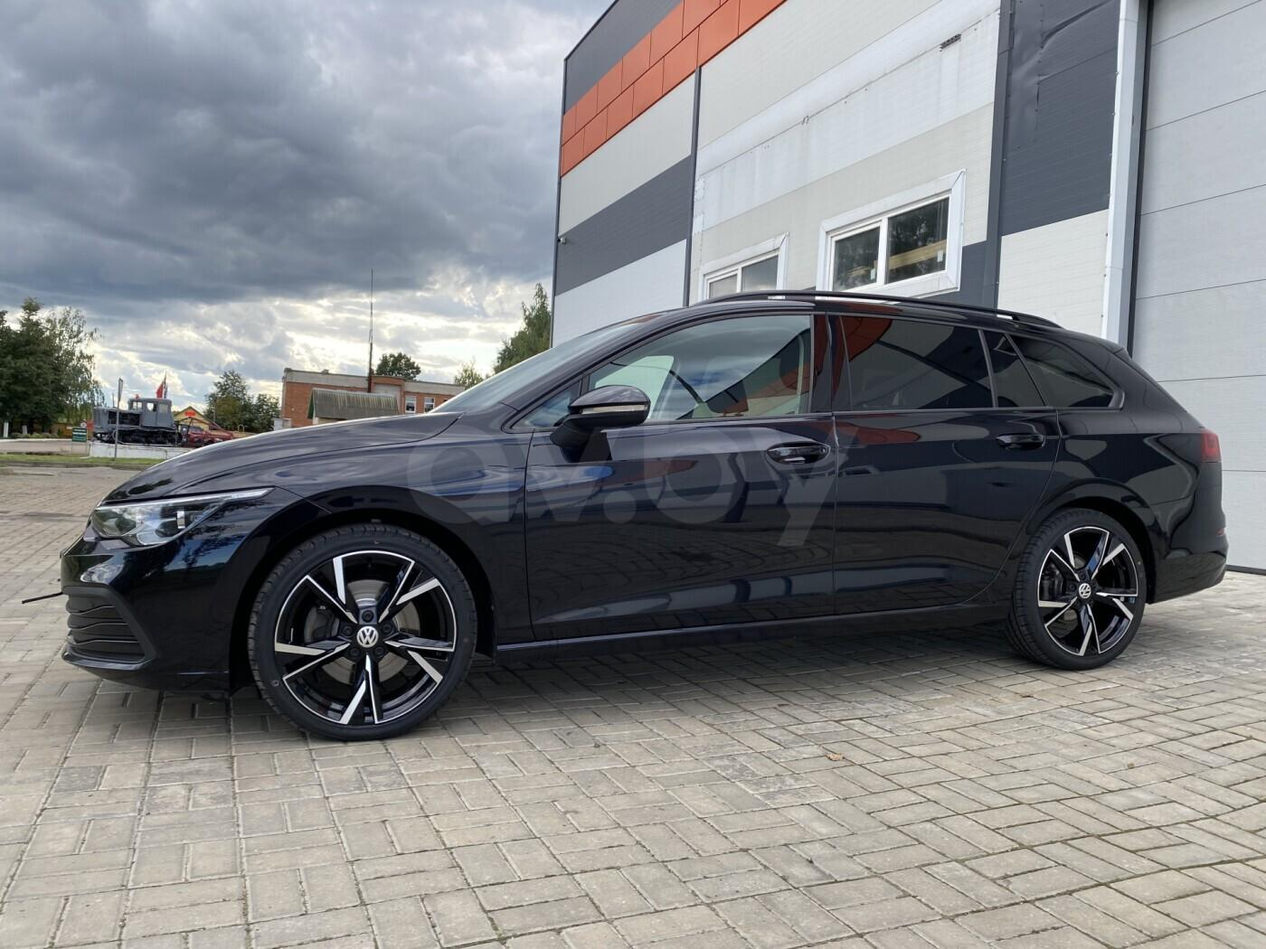Golf_2019: (47, 287, 1231, 748)
